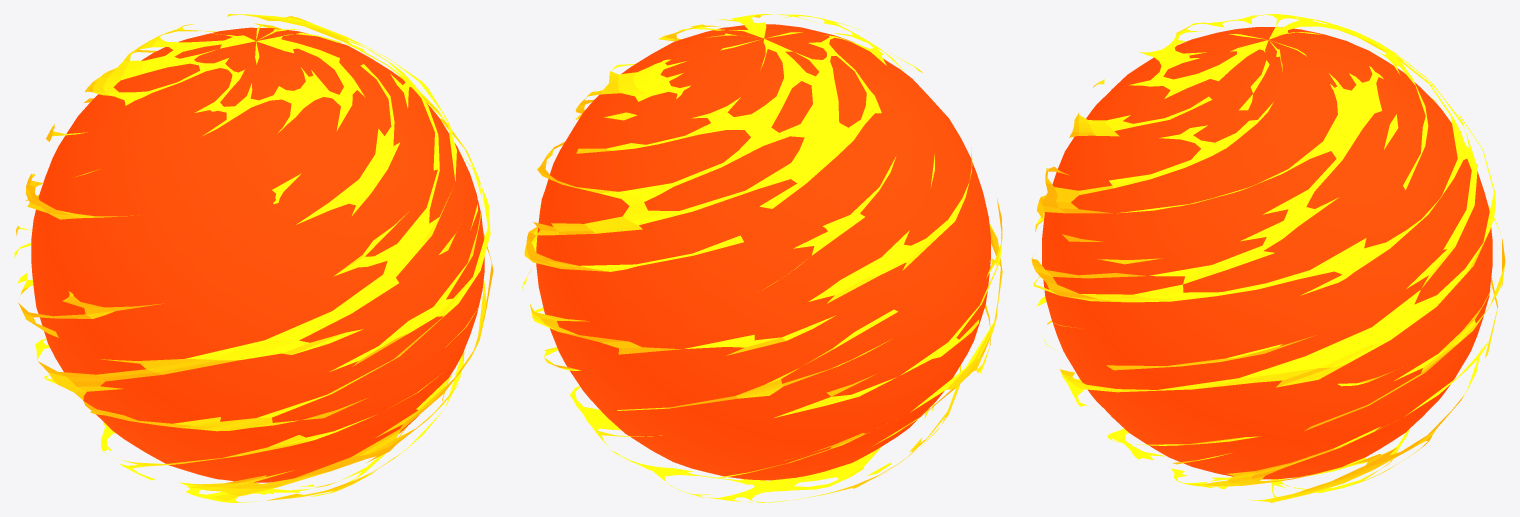
File: fireball.fbx
The picture shows the model from 3 angles, left to right: view 1: azimuth 30°, elevation 25°; view 2: azimuth 150°, elevation 25°; view 3: azimuth 270°, elevation 25°; orthographic projection.
Parts seen in each view (by area): view 1: Сфера.001, Сфера; view 2: Сфера.001, Сфера; view 3: Сфера.001, Сфера.
Boxes of the visible parts, box(x1,y1,x2,y2) form: Сфера.001: box(31, 27, 484, 482); Сфера: box(14, 14, 493, 502); Сфера.001: box(536, 24, 990, 480); Сфера: box(522, 14, 1002, 502); Сфера.001: box(1042, 27, 1492, 479); Сфера: box(1031, 14, 1505, 502).
Size of the model in its own units: 190 by 195 by 189.
